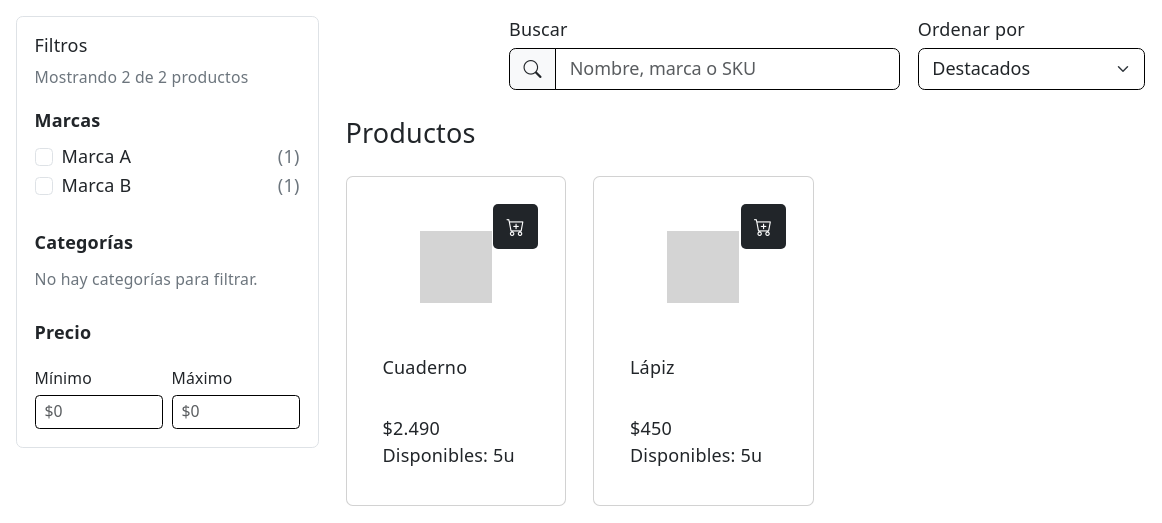
Test: Products › Filtra la grilla por marca seleccionada
Expected: the heading "Cuaderno" is shown, [382,355,467,379]
Click the checkbox labelled "Marca A (1)". click: {"x": 44, "y": 157}
box: [34,148,52,166]
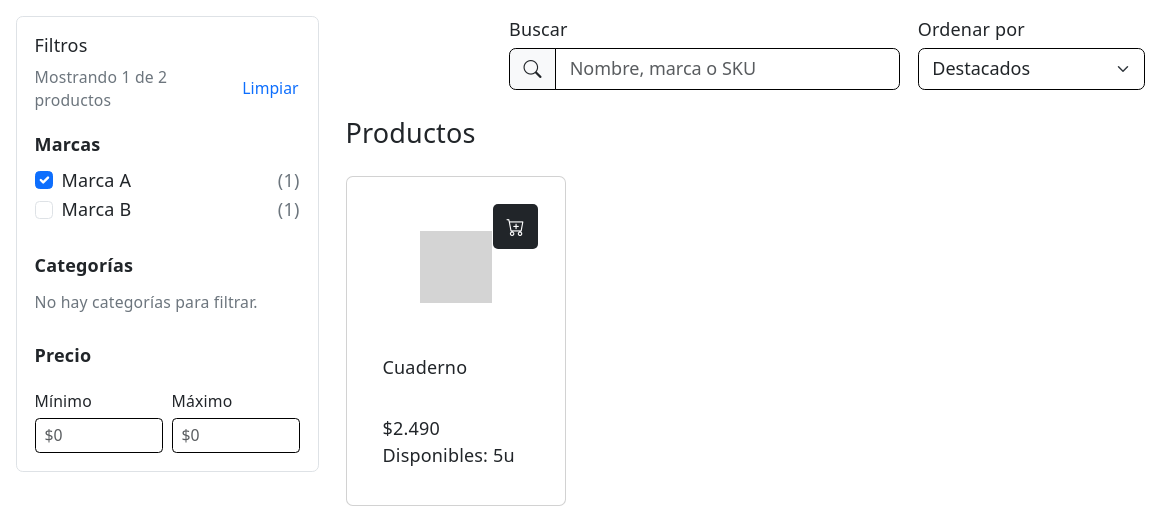
Expected: the heading "Cuaderno" is shown, [382,355,467,379]
Expected: the heading "Lápiz" is gone
